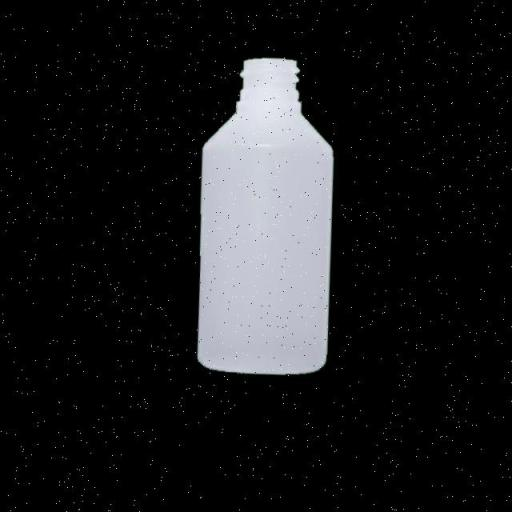plastic: (174, 50, 352, 391)
